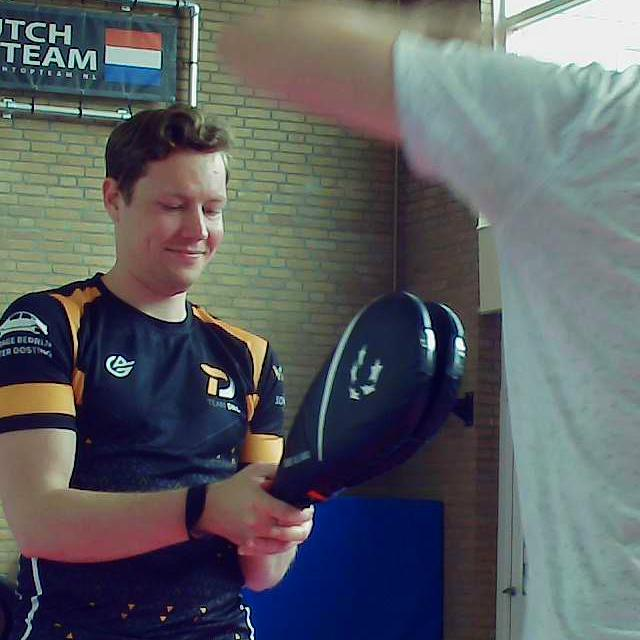paddle: (271, 290, 467, 509)
